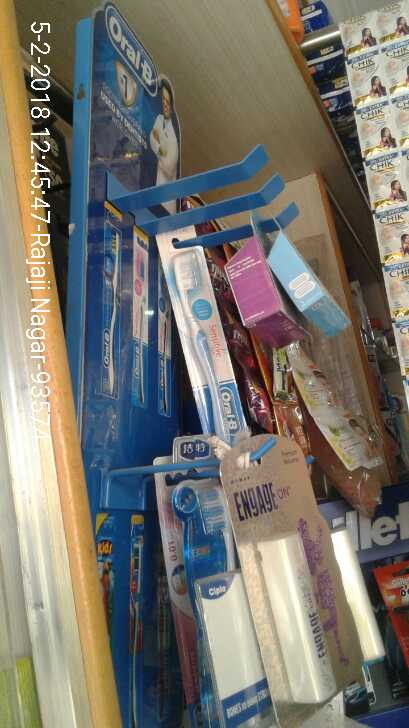oralb: (149, 233, 247, 439)
